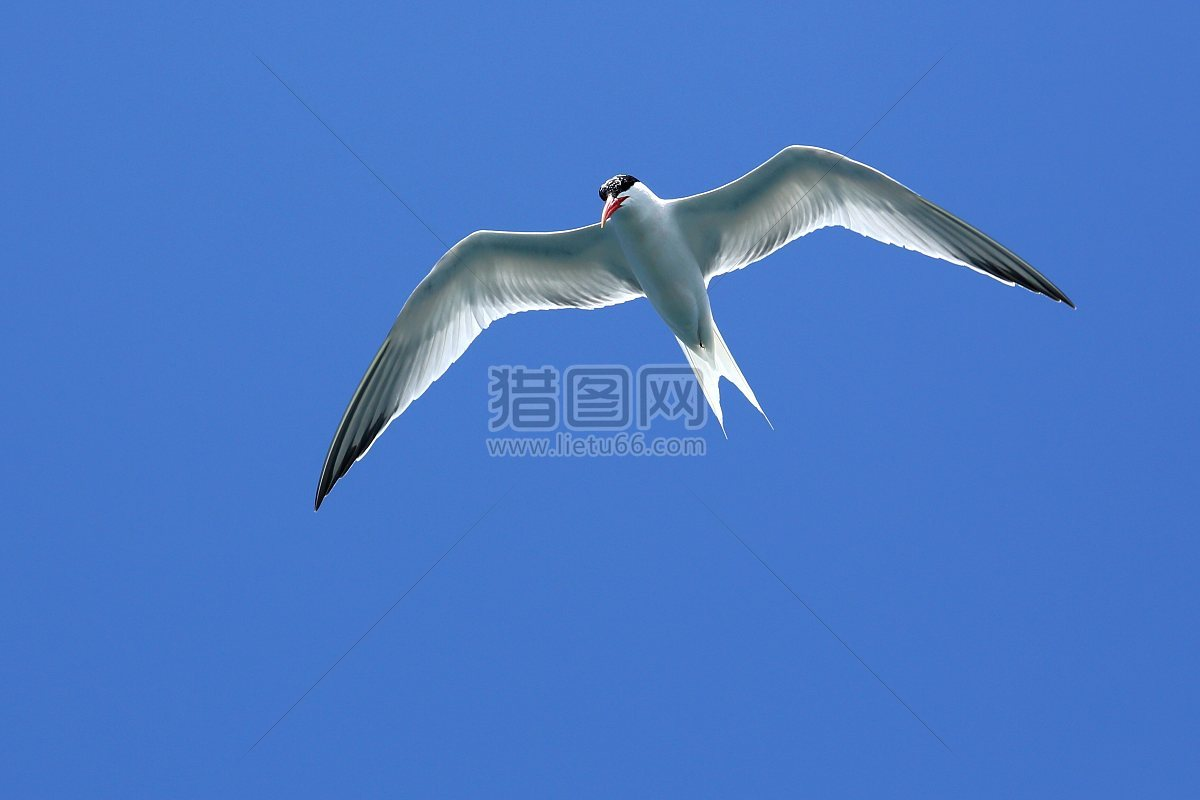bird: (302, 136, 1078, 517)
